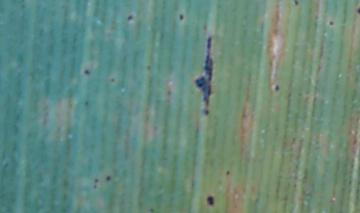tarspot: (192, 34, 215, 117), (206, 195, 215, 206), (125, 13, 135, 22), (81, 67, 91, 75), (177, 12, 184, 22), (273, 83, 280, 92), (93, 176, 100, 185), (165, 89, 172, 97), (146, 64, 153, 72), (83, 99, 90, 107), (147, 206, 155, 213), (104, 174, 111, 182), (201, 23, 208, 31), (224, 168, 231, 175), (327, 20, 334, 27), (109, 77, 116, 84), (91, 184, 99, 190), (292, 1, 299, 7), (356, 6, 360, 16), (20, 3, 25, 9), (17, 1, 26, 3)
